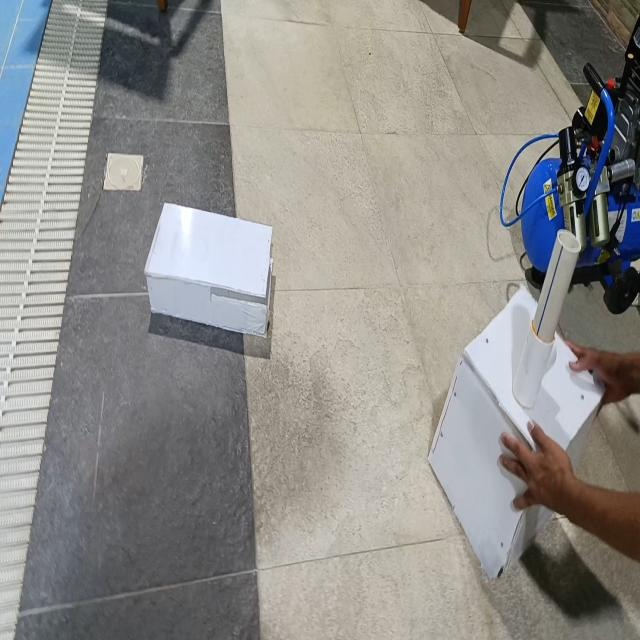Cube: (427, 283, 606, 581)
Cuboid: (144, 199, 273, 338)
